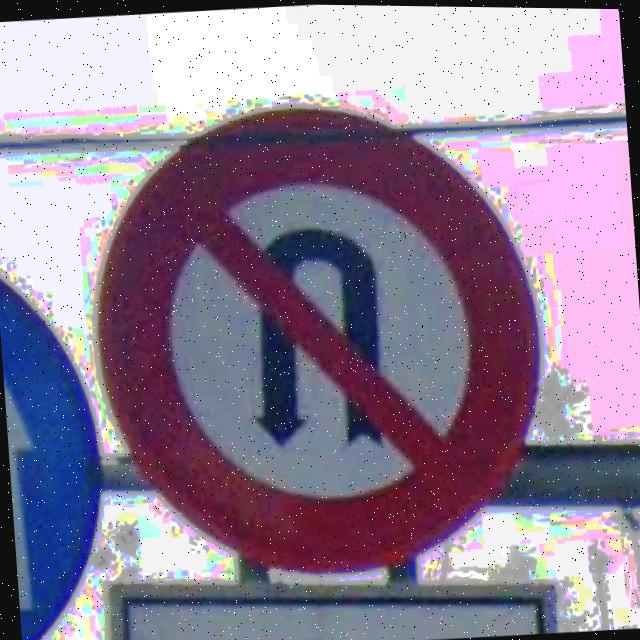nouturn: (95, 109, 542, 570)
